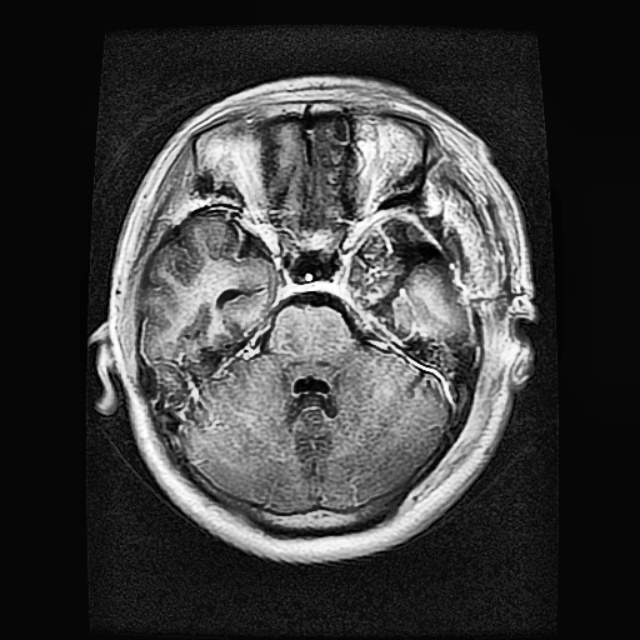Pituitary: (350, 220, 468, 345)
